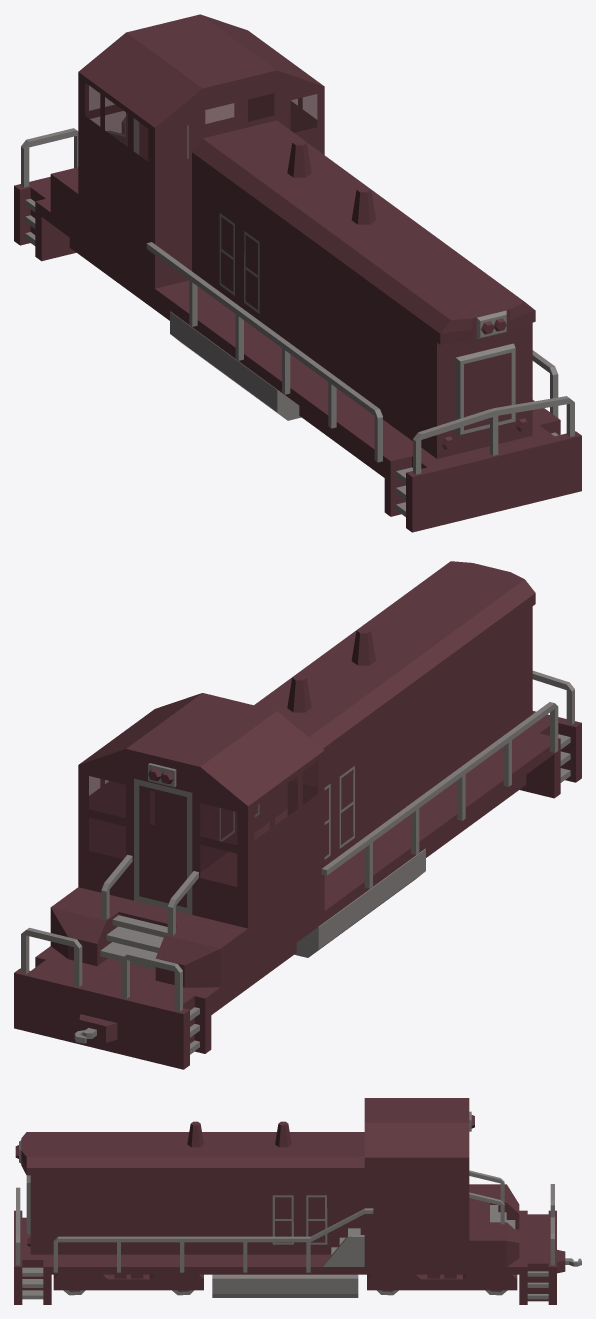
The model's file is train-freight-short.fbx.
3 views of the same model, one above another, from view 1: azimuth 30°, elevation 25°; view 2: azimuth 150°, elevation 25°; view 3: azimuth 270°, elevation 25° (orthographic). The views are drawn at different scales.
Parts seen in each view (by area): view 1: train-freight-short-base, train-freight-short-wheel-frame_B, train-freight-short-wheel-frame_F; view 2: train-freight-short-base, train-freight-short-wheel-frame_F, train-freight-short-wheel-frame_B; view 3: train-freight-short-base, train-freight-short-wheel-frame_F, train-freight-short-wheel-frame_B.
Boxes of the visible parts, x1,y1,x2,y2 form: train-freight-short-base: (14, 14, 581, 532); train-freight-short-wheel-frame_B: (69, 238, 170, 320); train-freight-short-wheel-frame_F: (299, 406, 384, 477); train-freight-short-base: (14, 561, 581, 1069); train-freight-short-wheel-frame_F: (425, 775, 526, 857); train-freight-short-wheel-frame_B: (211, 943, 296, 1014); train-freight-short-base: (14, 1098, 581, 1304); train-freight-short-wheel-frame_F: (53, 1274, 203, 1290); train-freight-short-wheel-frame_B: (367, 1274, 517, 1290).
Size of the model in its own units: 3.4 by 4.55 by 13.6.
